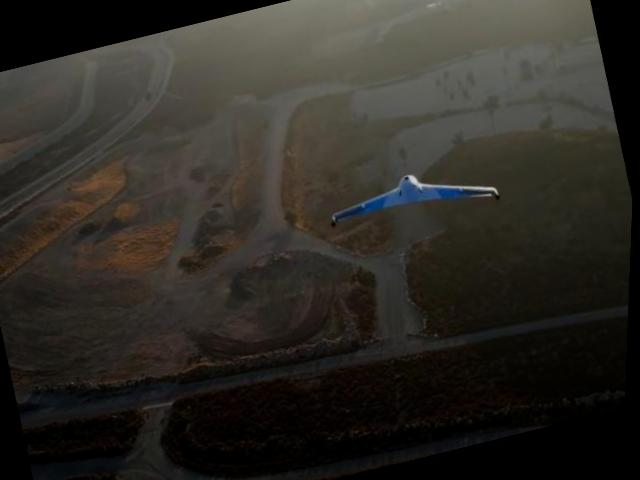iha: (324, 154, 501, 236)
